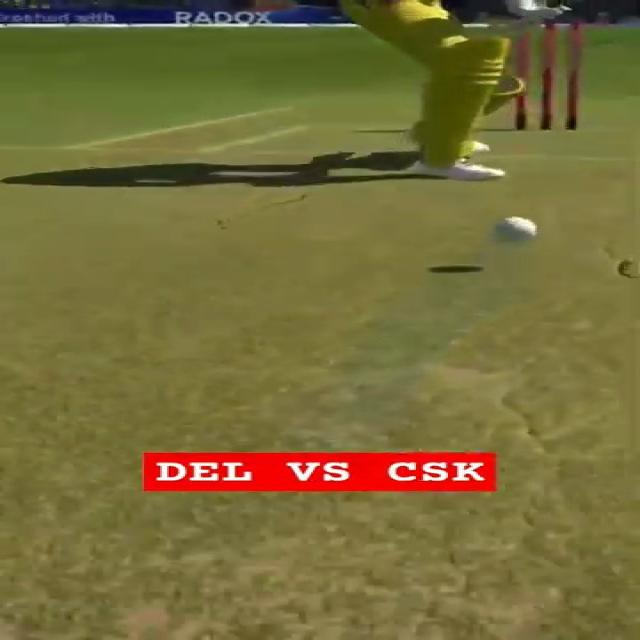ball: (487, 214, 537, 244)
